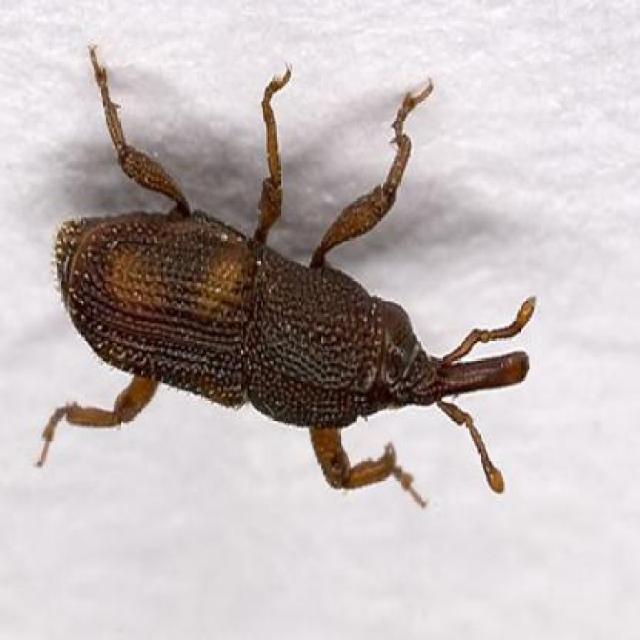rice-bug: (46, 196, 536, 498)
